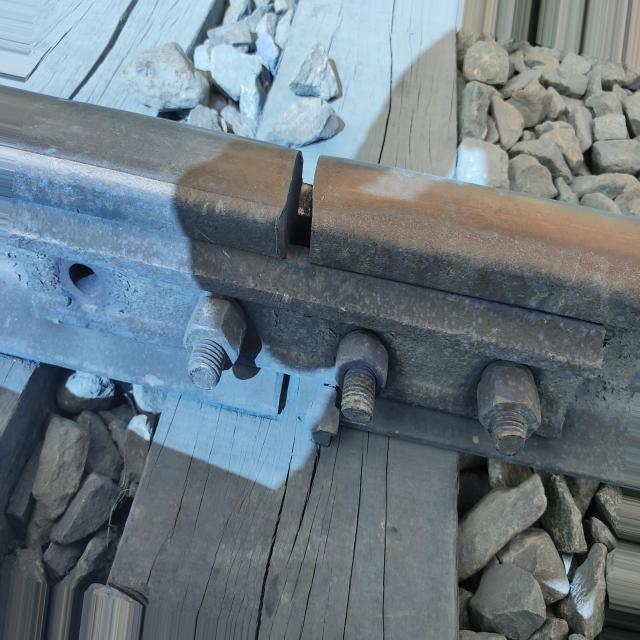Defective Joint: (0, 88, 640, 484)
